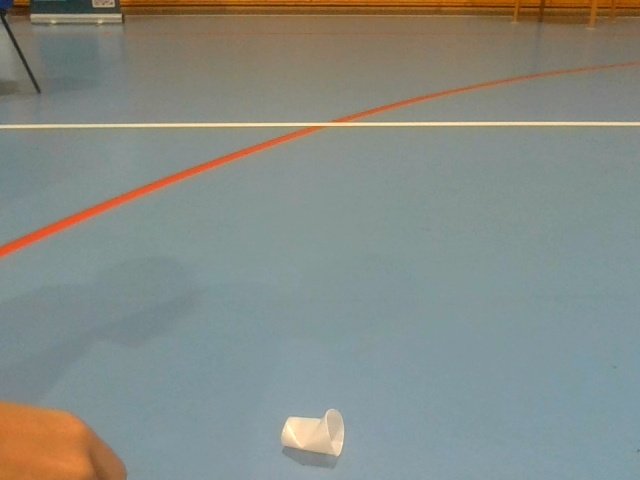plasticcup: (278, 406, 345, 459)
